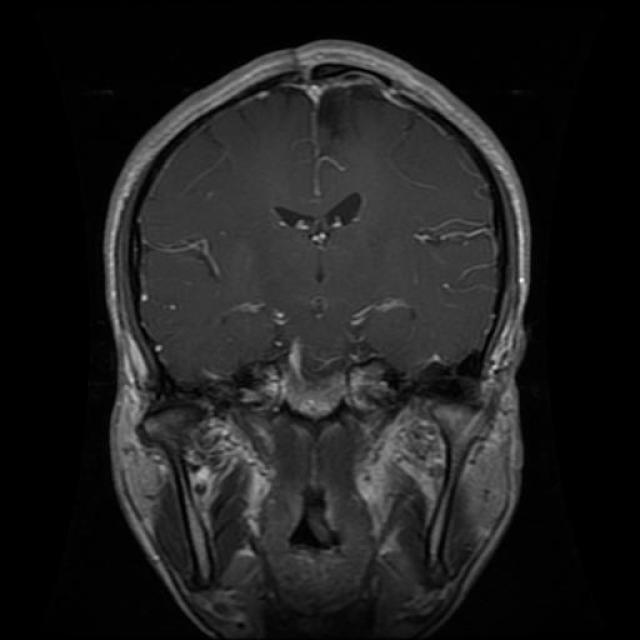glioma: (274, 188, 368, 252)
